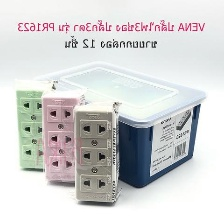plastic_box: (30, 57, 209, 192)
three_eye_plug: (70, 103, 121, 205), (40, 87, 86, 186), (16, 81, 59, 172)
